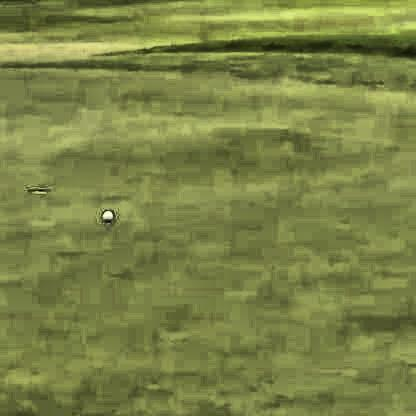golfball: (98, 209, 112, 221)
